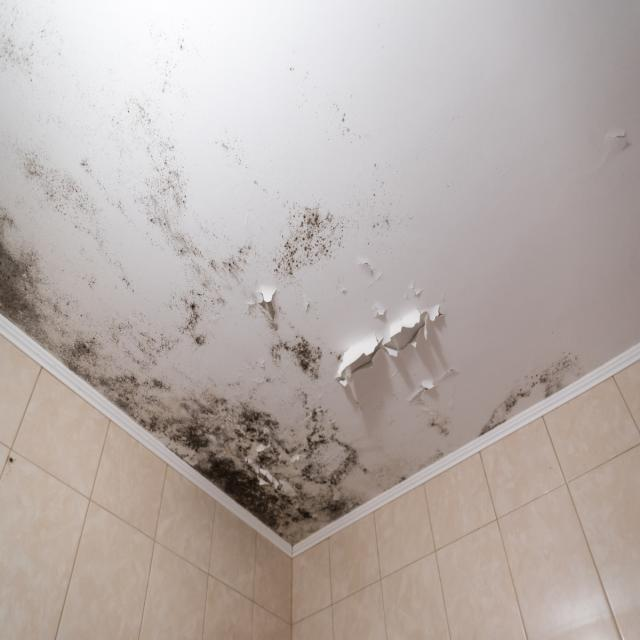leak: (1, 109, 294, 542), (298, 255, 570, 392)
